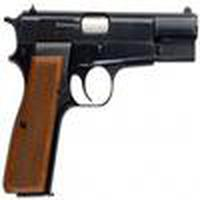gun: (2, 7, 199, 189)
